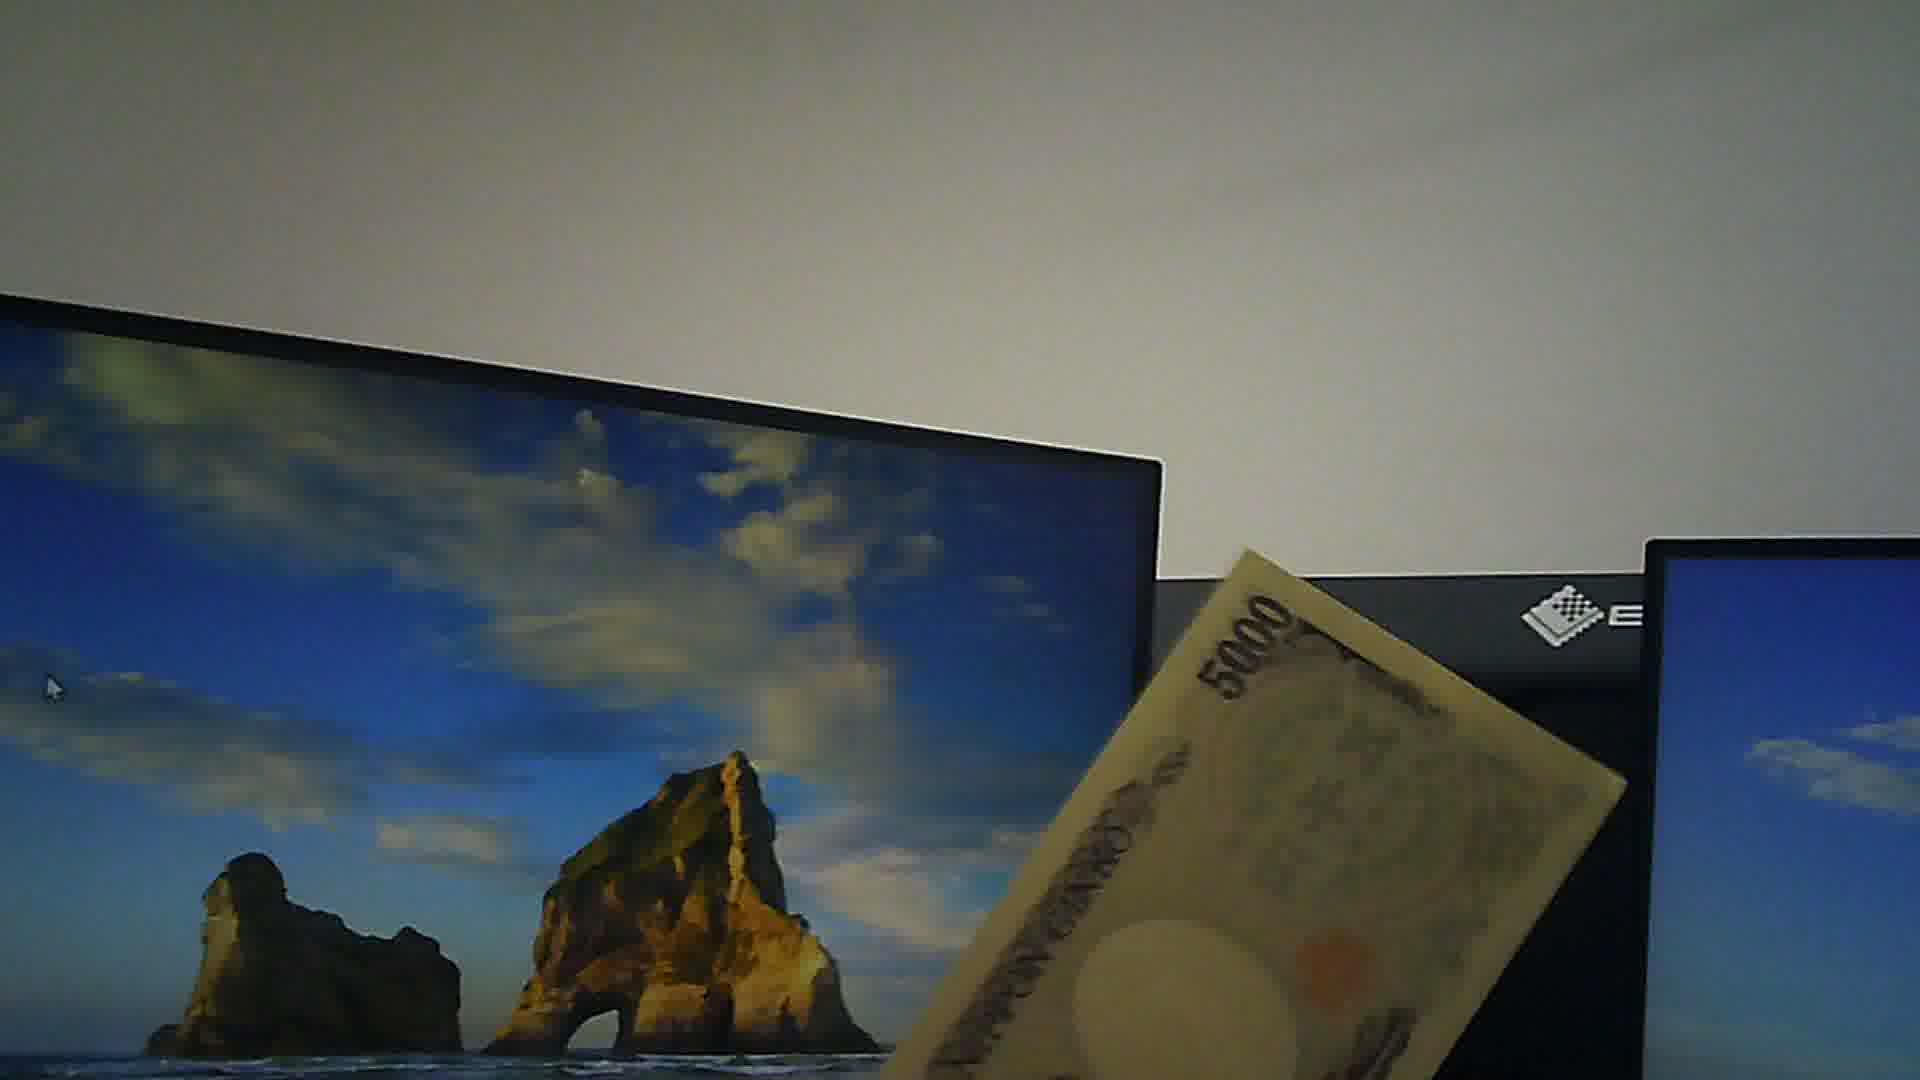5,000 Yen: (942, 553, 1590, 1079)
